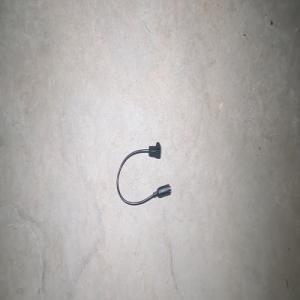Wire: (116, 142, 171, 205)
